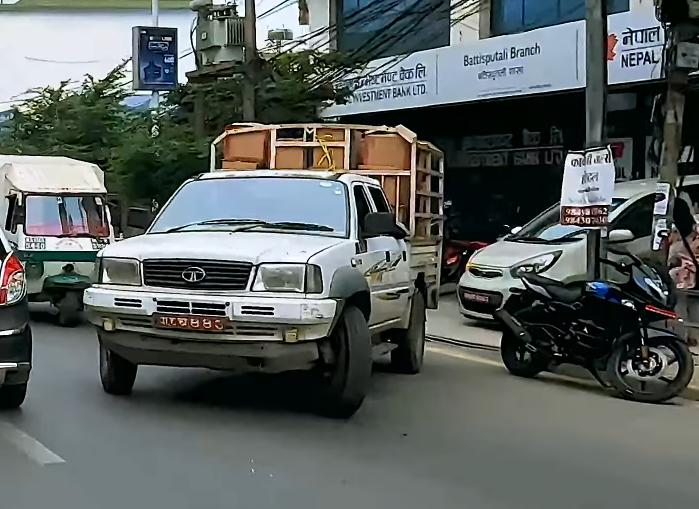bike: (480, 242, 694, 403)
car: (453, 160, 699, 321)
tempo: (0, 134, 122, 334)
transport_vehicle: (77, 112, 463, 443)
